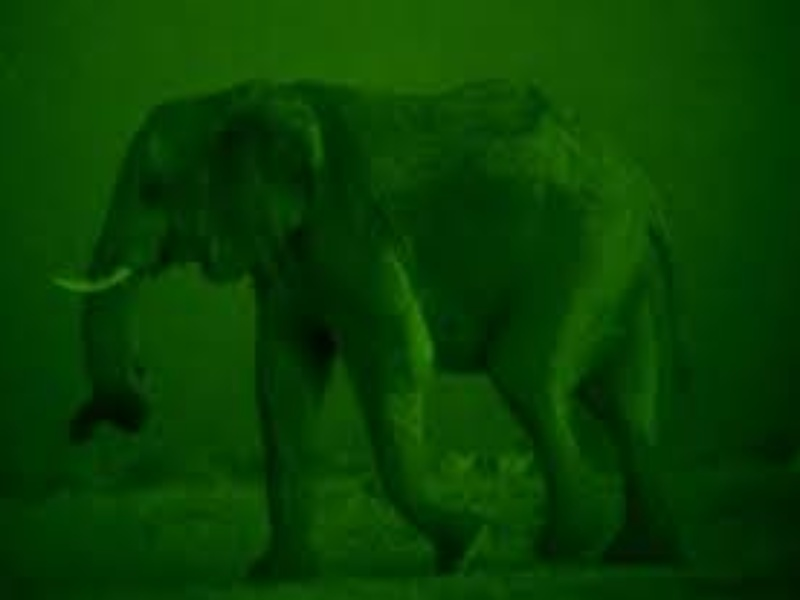elephant: (49, 49, 705, 564)
